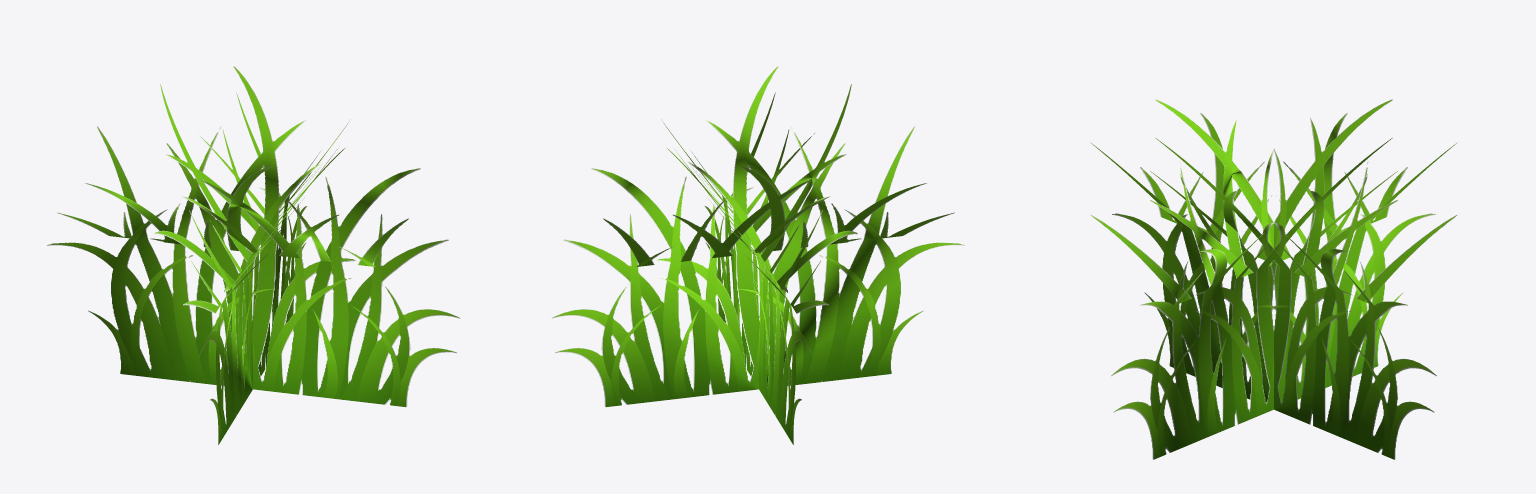
File: Larger and simpler leaf.fbx
The picture shows the model from 3 angles, left to right: view 1: azimuth 30°, elevation 25°; view 2: azimuth 150°, elevation 25°; view 3: azimuth 270°, elevation 25°; orthographic projection. The views are drawn at different scales.
Visible parts, largest first — view 1: Plane.002; view 2: Plane.002; view 3: Plane.002.
Part boxes in pixels (x1=…): Plane.002: x1=47, y1=66, x2=460, y2=444; Plane.002: x1=551, y1=66, x2=964, y2=444; Plane.002: x1=1090, y1=99, x2=1457, y2=459.
Bounding box in the file's own units: 23.88 × 15.73 × 24.1.
